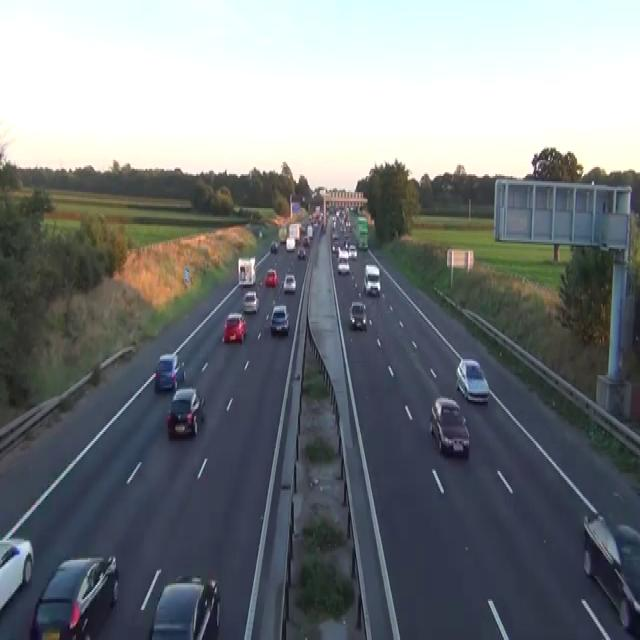Car: (29, 555, 119, 638), (582, 512, 639, 635), (149, 574, 220, 638), (613, 523, 639, 633), (0, 535, 34, 617), (582, 512, 622, 580), (429, 396, 470, 457), (166, 386, 205, 437), (455, 358, 489, 403), (154, 352, 185, 391), (222, 311, 246, 343), (363, 263, 380, 297), (348, 300, 367, 330), (270, 304, 289, 334), (242, 290, 259, 313), (337, 250, 350, 274), (282, 274, 296, 292), (265, 268, 278, 286), (348, 243, 357, 260), (285, 237, 295, 250), (297, 247, 306, 260), (338, 249, 349, 259), (270, 240, 278, 252), (331, 242, 339, 252), (332, 231, 339, 240), (303, 235, 309, 245), (343, 240, 349, 249), (258, 230, 262, 237)
Truck: (237, 256, 256, 286), (355, 215, 368, 249), (288, 222, 300, 244)
